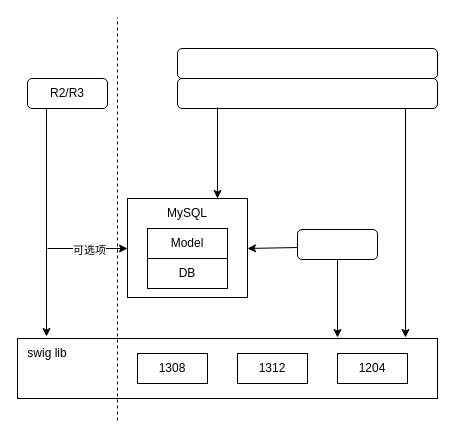
This 455x439 diagram has some shape labels left out. Here are the shapes that lost their labels. From the top down, the centre of each, then its label:
At (x=307, y=63): "nginx".
At (x=307, y=93): "Flask".
At (x=337, y=244): "cron".
